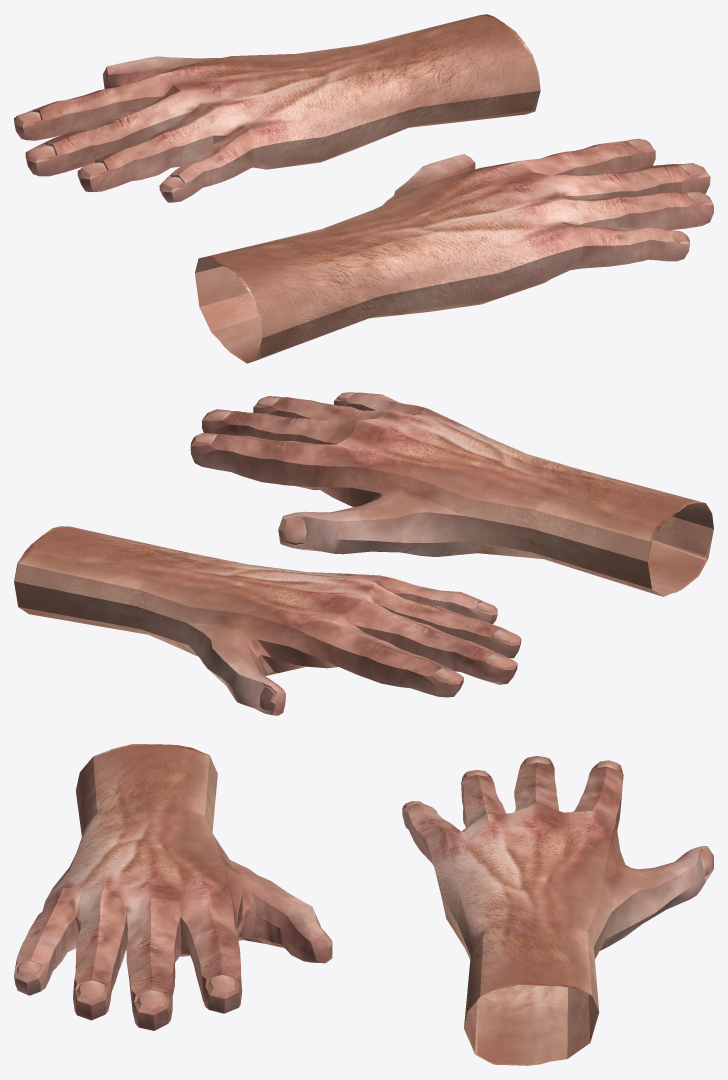
The model's file is hands.obj.
3 renders of one model, top to bottom at view 1: azimuth 30°, elevation 25°; view 2: azimuth 150°, elevation 25°; view 3: azimuth 270°, elevation 25°, orthographic. The views are drawn at different scales.
Parts seen in each view (by area): view 1: Cube_000_Cube_017_Detached, Cube_000_Cube_017_Detached_Detached; view 2: Cube_000_Cube_017_Detached, Cube_000_Cube_017_Detached_Detached; view 3: Cube_000_Cube_017_Detached_Detached, Cube_000_Cube_017_Detached.
Part boxes in pixels (x1=…): Cube_000_Cube_017_Detached: x1=195, y1=138, x2=713, y2=363; Cube_000_Cube_017_Detached_Detached: x1=14, y1=14, x2=540, y2=202; Cube_000_Cube_017_Detached: x1=190, y1=392, x2=713, y2=596; Cube_000_Cube_017_Detached_Detached: x1=14, y1=526, x2=521, y2=715; Cube_000_Cube_017_Detached_Detached: x1=402, y1=756, x2=713, y2=1065; Cube_000_Cube_017_Detached: x1=14, y1=744, x2=332, y2=1030.
Size of the model in its own units: 0.2661 by 0.0487 by 0.3073.
1 material, 1 textured.
